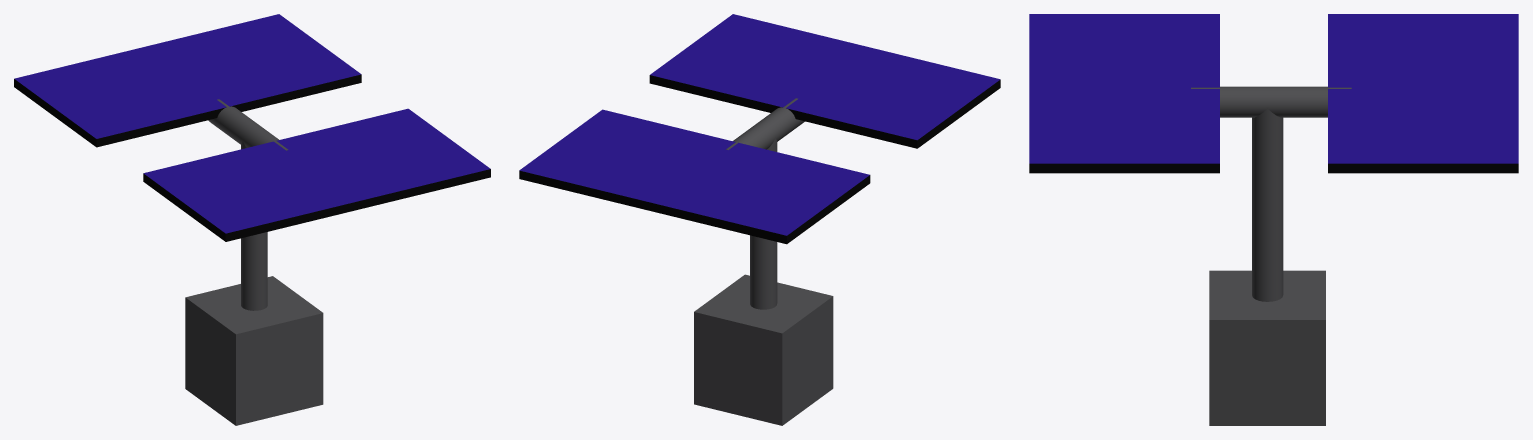
File: SOLAR_PANEL.fbx
3 renders of one model, left to right at view 1: azimuth 30°, elevation 25°; view 2: azimuth 150°, elevation 25°; view 3: azimuth 270°, elevation 25°, orthographic. The views are drawn at different scales.
Visible parts, largest first — view 1: PANELS, BASE, SUPPORT; view 2: PANELS, BASE, SUPPORT; view 3: PANELS, BASE, SUPPORT.
Boxes of the visible parts, x1=… form: PANELS: x1=14, y1=14, x2=490, y2=241; BASE: x1=185, y1=276, x2=323, y2=425; SUPPORT: x1=208, y1=99, x2=288, y2=310; PANELS: x1=519, y1=14, x2=1000, y2=244; BASE: x1=694, y1=274, x2=833, y2=425; SUPPORT: x1=726, y1=98, x2=804, y2=309; PANELS: x1=1029, y1=14, x2=1518, y2=173; BASE: x1=1209, y1=270, x2=1325, y2=425; SUPPORT: x1=1191, y1=86, x2=1351, y2=301.
Size of the model in its own units: 16.5 by 16.11 by 22.83.
